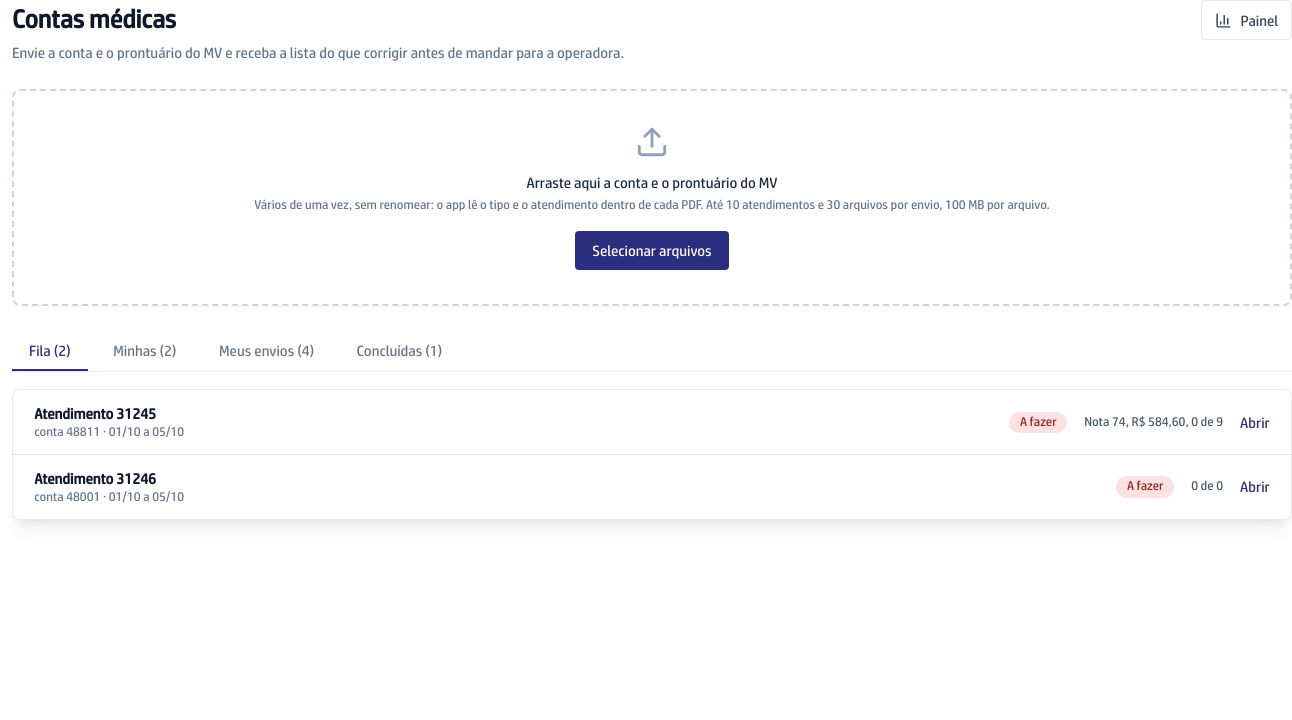
Test case: a fila comum › a aba Concluídas mostra as concluídas, com as pendências
Expected: the 1st list item is shown, [13,390,1291,455]
Click the tab "Concluídas (1)".
click(399, 351)  # box [340,331,459,371]
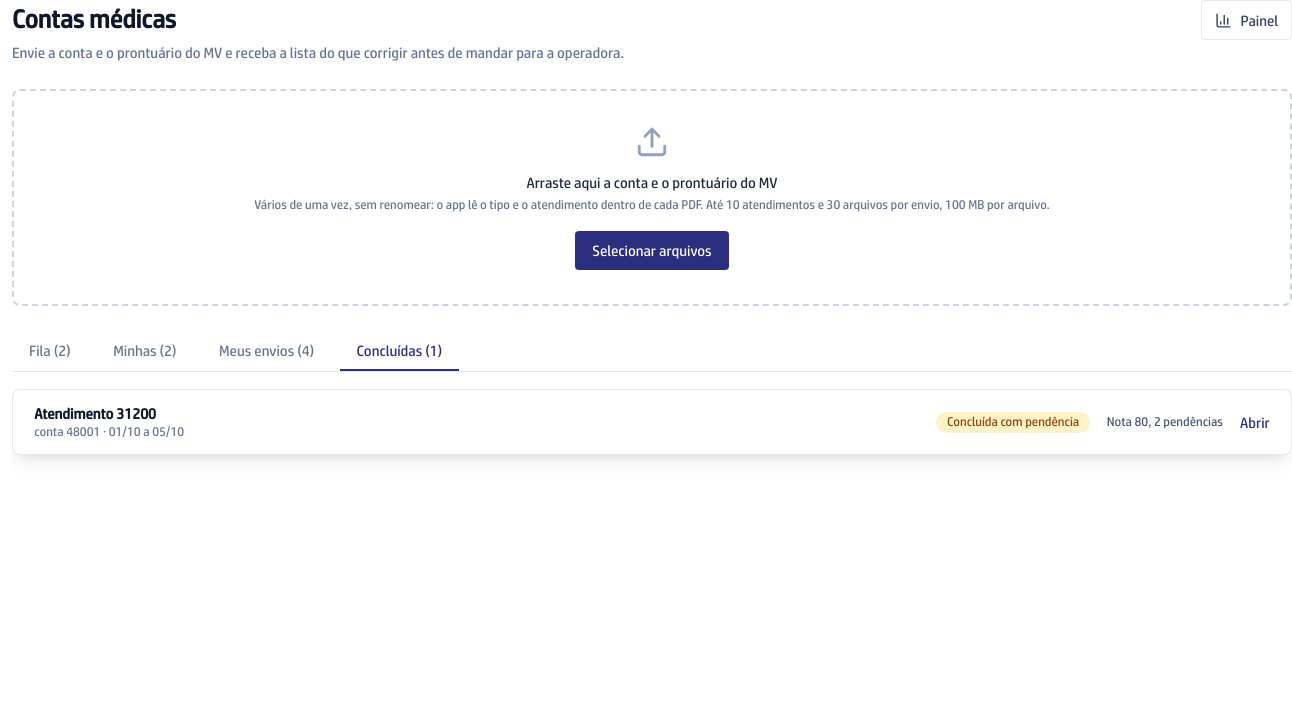
Expected: the number of list items is 1, [34,405,1270,439]
Expected: the list item shows "Atendimento 31200", [34,405,1270,439]
Expected: the list item shows "Concluída com pendência", [947,414,1079,429]
